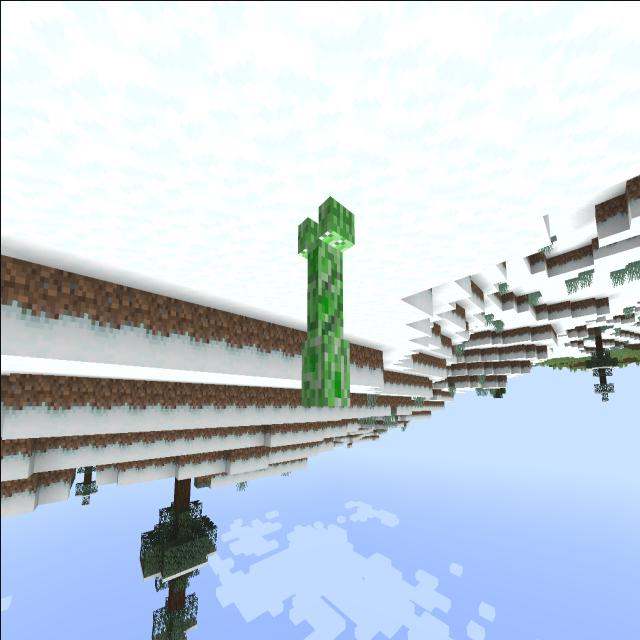Creeper: (288, 183, 361, 424)
